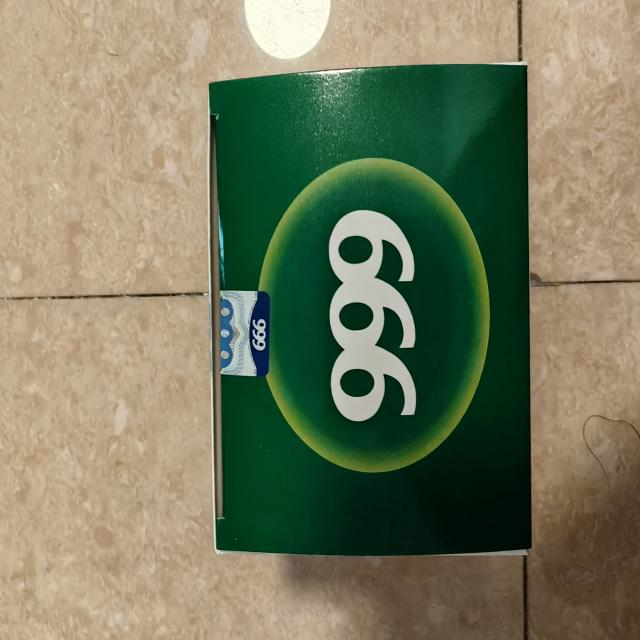box: (198, 56, 542, 568)
